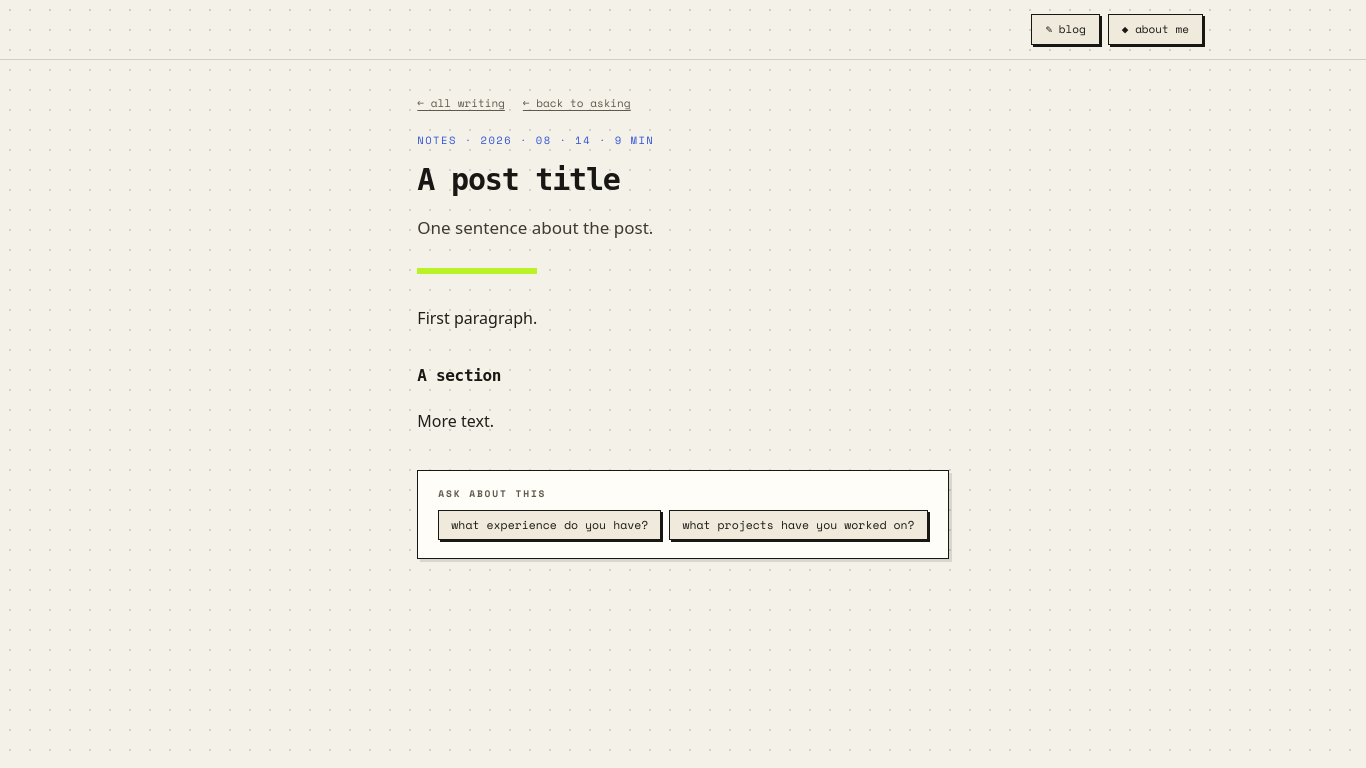
Test: App › writing › asking from a post goes to the conversation with the answer
What coordinates should you click on to do the following:
click the button "what experience do you have?"
I would click on:
 (550, 525)
Its box is [438,510,661,540].
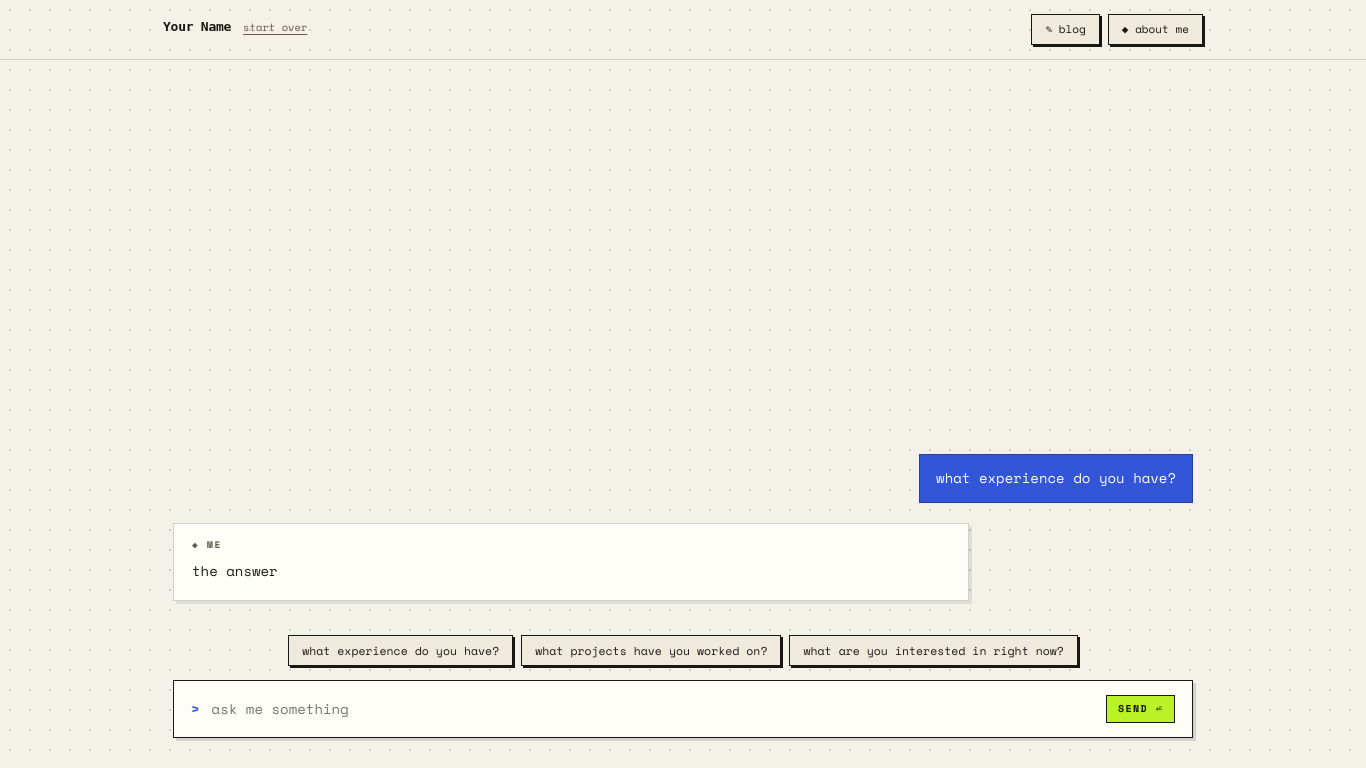
Result: the text "the answer" is shown at [192,560,278,581]
Result: the field labelled "ask me something" is shown at [212,700,1094,718]
Result: the link "← all writing" is gone
